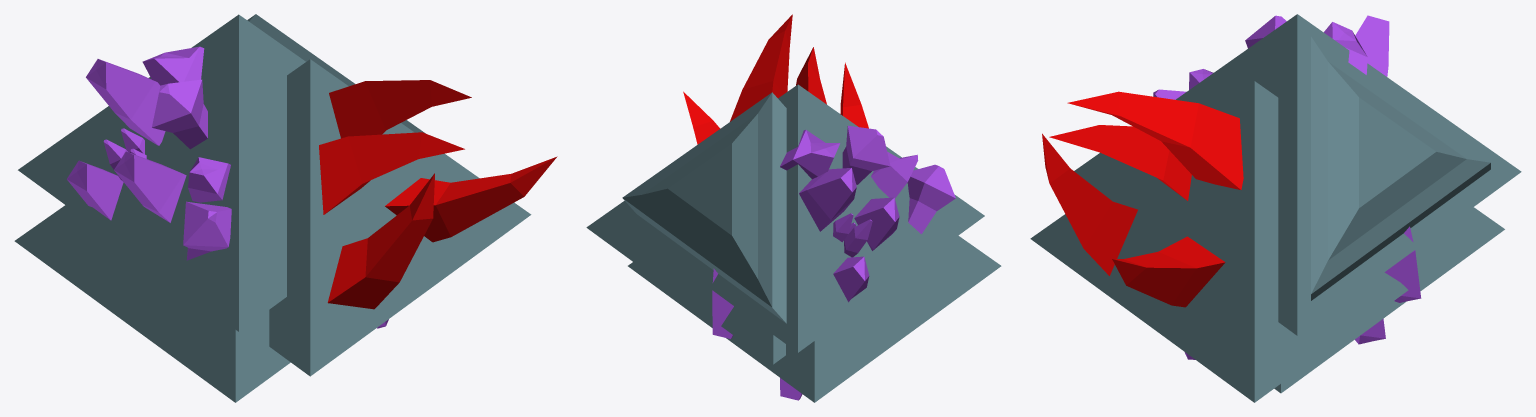
File: Planettest_02.fbx
3 renders of one model, left to right at view 1: azimuth 30°, elevation 25°; view 2: azimuth 150°, elevation 25°; view 3: azimuth 270°, elevation 25°, orthographic. The views are drawn at different scales.
Parts seen in each view (by area): view 1: pSphere71; view 2: pSphere71; view 3: pSphere71.
Boxes of the visible parts, x1,y1,x2,y2 form: pSphere71: (14, 14, 557, 402); pSphere71: (586, 14, 1001, 402); pSphere71: (1030, 14, 1521, 402).
Size of the model in its own units: 180 by 149 by 190.
